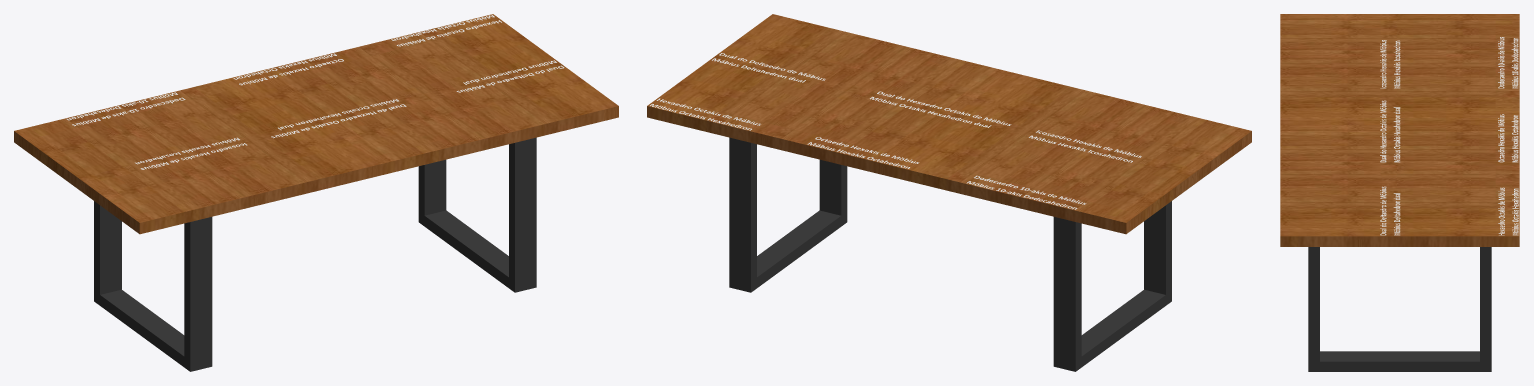
Rendered from mesa_nonConvex3.glb.
The picture shows the model from 3 angles, left to right: view 1: azimuth 30°, elevation 25°; view 2: azimuth 150°, elevation 25°; view 3: azimuth 270°, elevation 25°; orthographic projection. The views are drawn at different scales.
Visible parts, largest first — view 1: object 1, Composant#1 (×2), Dual do Hexaedro, Dodecaedro 10-ak, Hexaedro Octakis, Icosaedro Hexaki, Octaedro Hexakis, Dual do Deltaedr; view 2: object 1, Composant#1 (×2), Dual do Hexaedro, Dodecaedro 10-ak, Icosaedro Hexaki, Octaedro Hexakis, Hexaedro Octakis; view 3: object 1, Composant#1, Dual do Hexaedro, Dodecaedro 10-ak, Octaedro Hexakis, Hexaedro Octakis, Icosaedro Hexaki, Dual do Deltaedr.
Part boxes in pixels (box(x1,y1,x2,y2)): object 1: box(14, 14, 618, 234); Composant#1 (×2): box(94, 137, 536, 371); Dual do Hexaedro: box(271, 99, 406, 138); Dodecaedro 10-ak: box(66, 92, 185, 126); Hexaedro Octakis: box(391, 15, 501, 46); Icosaedro Hexaki: box(135, 137, 247, 169); Octaedro Hexakis: box(233, 53, 343, 85); Dual do Deltaedr: box(456, 60, 564, 92); object 1: box(647, 14, 1251, 234); Composant#1 (×2): box(729, 137, 1171, 371); Dual do Hexaedro: box(870, 91, 1011, 127); Dodecaedro 10-ak: box(966, 175, 1086, 209); Icosaedro Hexaki: box(1029, 130, 1141, 162); Octaedro Hexakis: box(807, 137, 919, 168); Hexaedro Octakis: box(650, 98, 760, 130); object 1: box(1280, 14, 1519, 246); Composant#1: box(1308, 247, 1491, 371); Dual do Hexaedro: box(1380, 100, 1400, 162); Dodecaedro 10-ak: box(1498, 37, 1518, 88); Octaedro Hexakis: box(1498, 114, 1518, 162); Hexaedro Octakis: box(1498, 187, 1518, 235); Icosaedro Hexaki: box(1380, 40, 1400, 88); Dual do Deltaedr: box(1380, 186, 1400, 235).
Bounding box in the file's own units: 2.2 × 0.771 × 1.
Materials: 3 (1 with a texture image).
